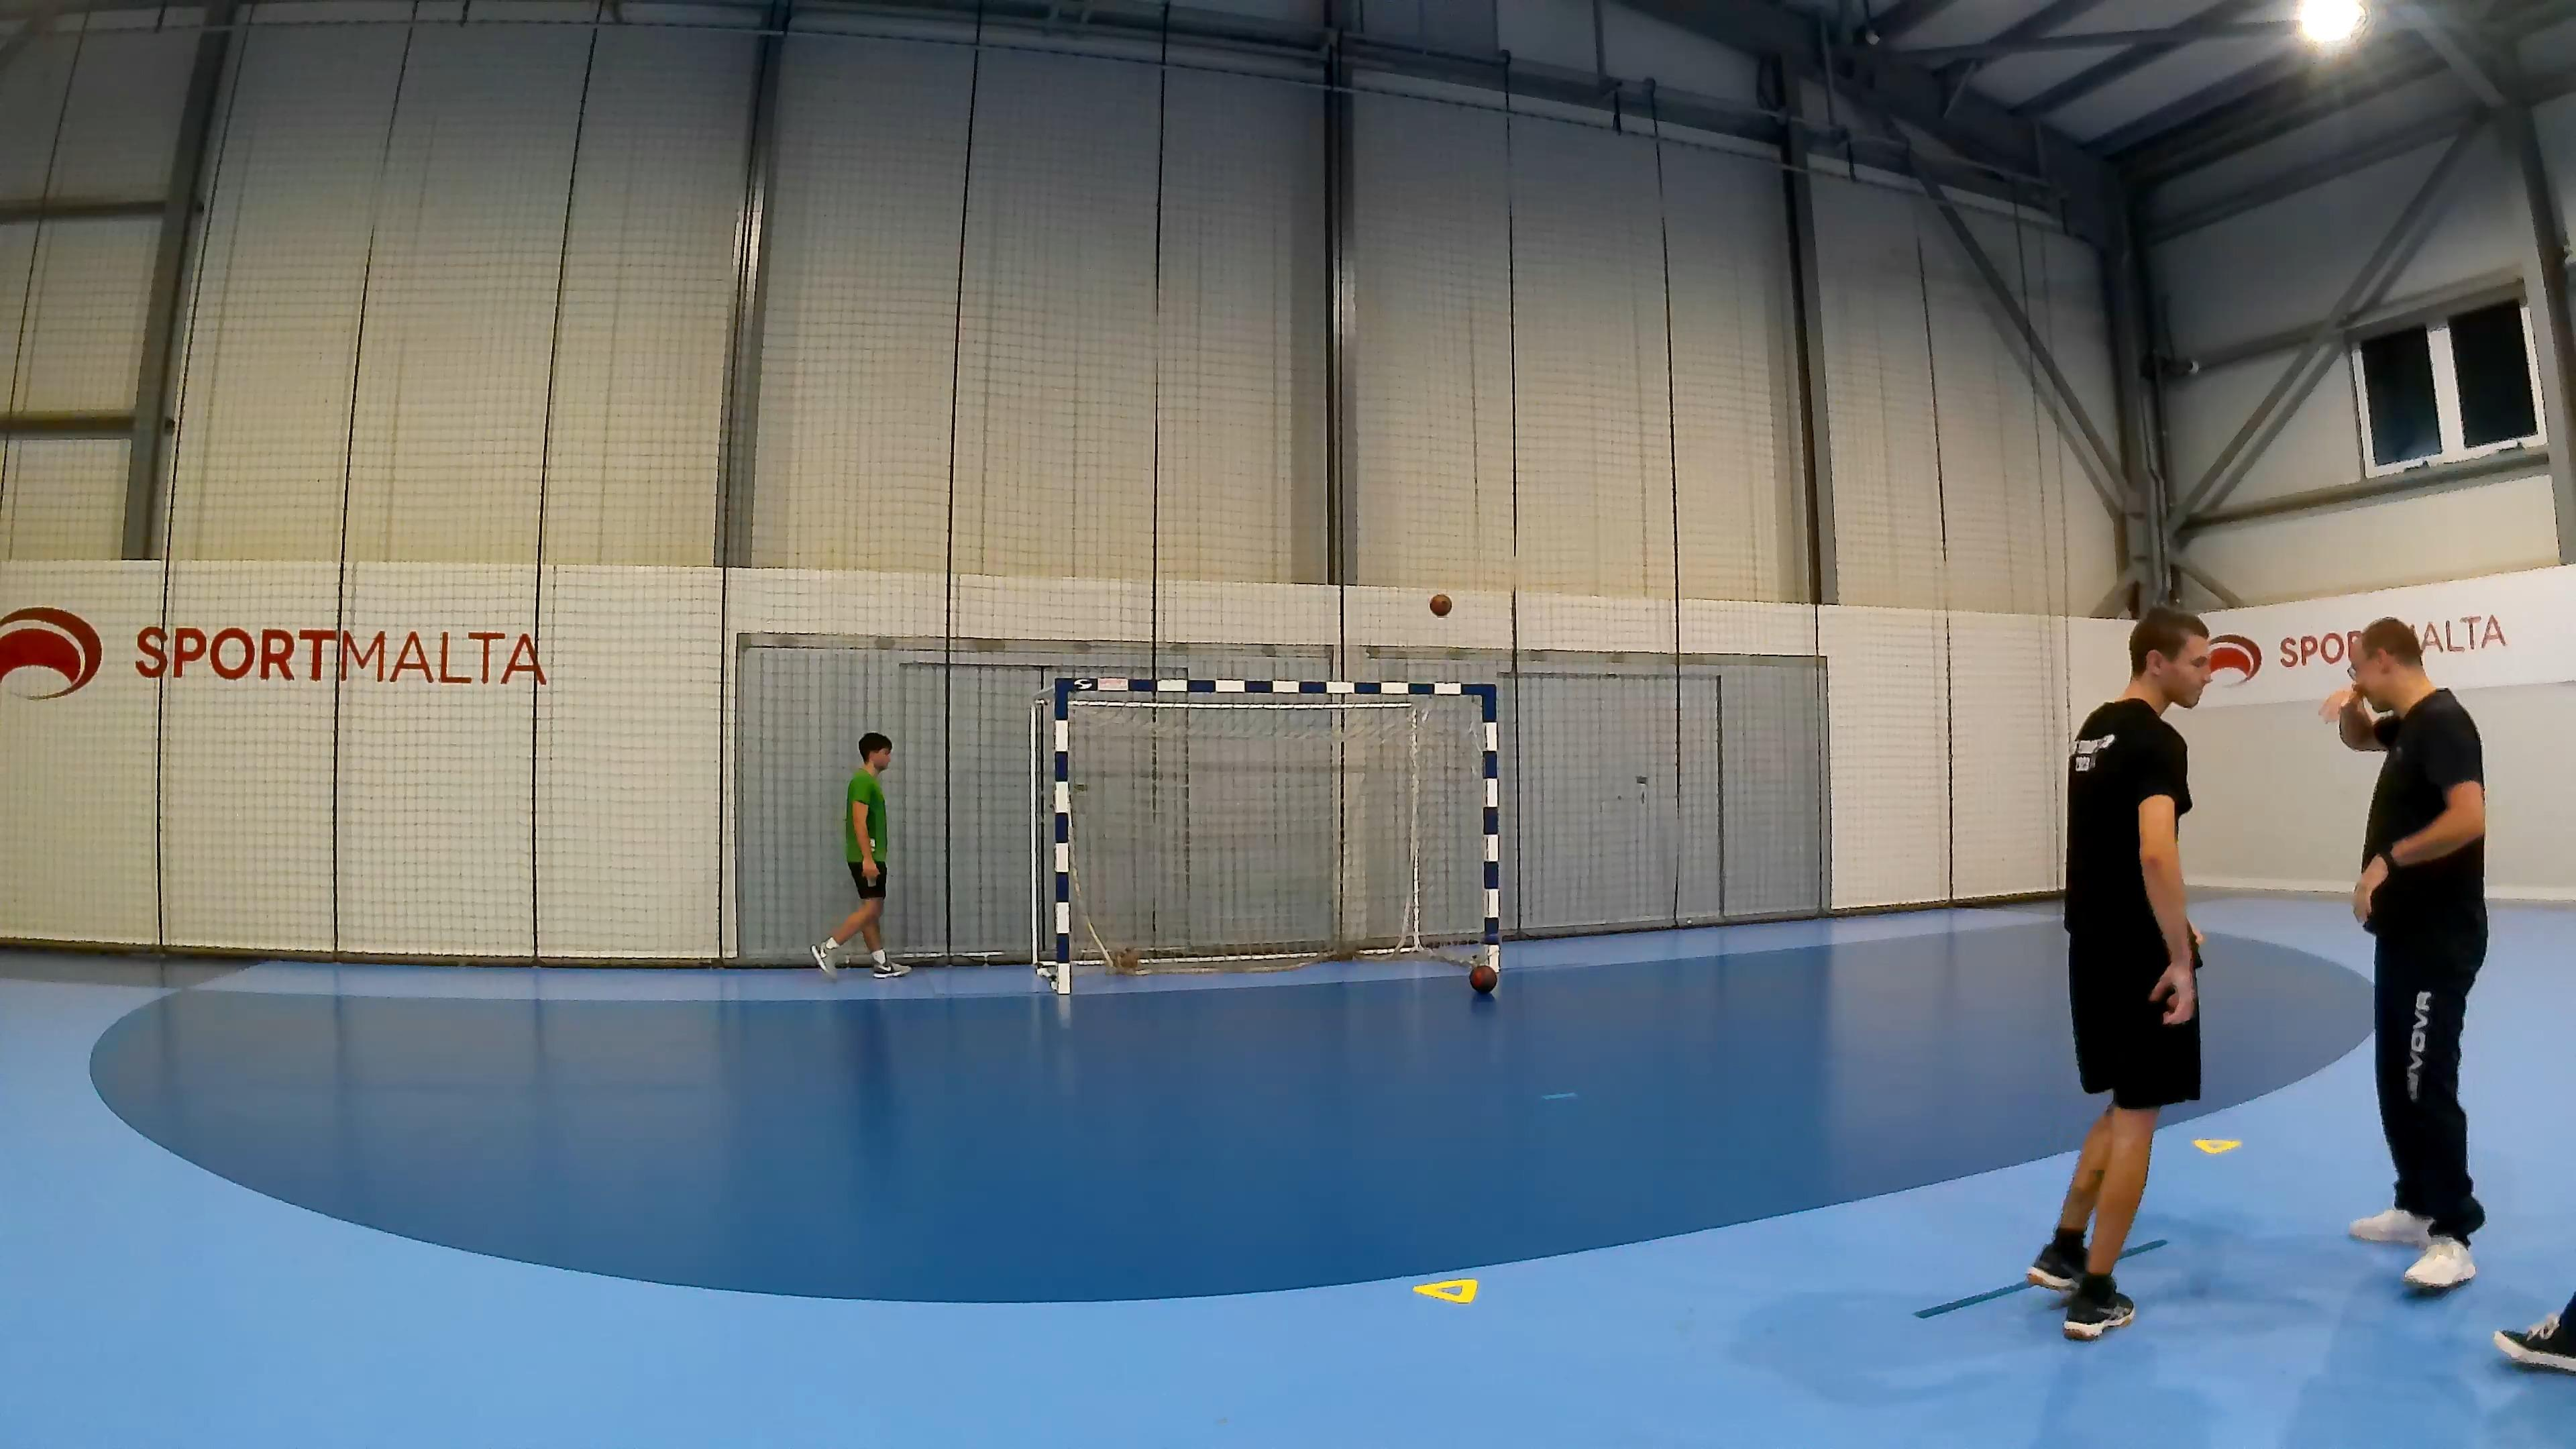handball: (1468, 961, 1497, 993), (1431, 593, 1454, 619)
